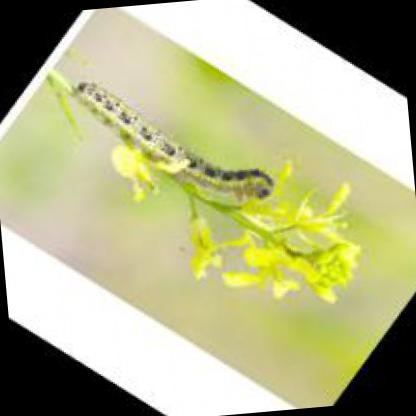pieris: (74, 78, 281, 207)
